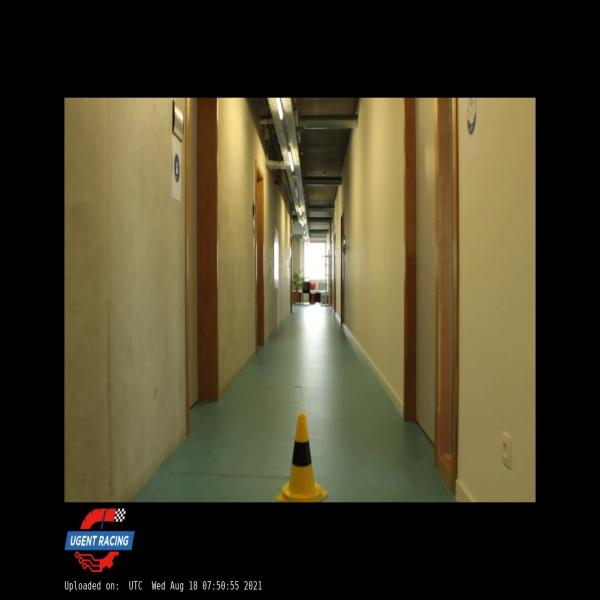yellow_cone: (275, 413, 328, 502)
